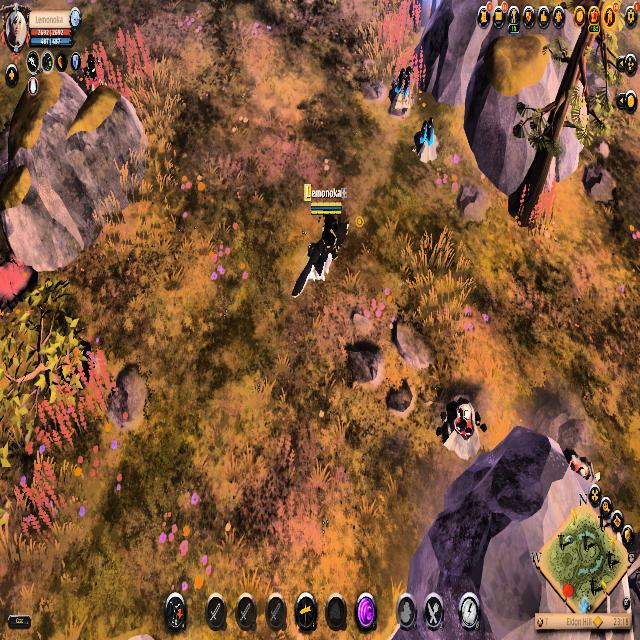ore tier 4: (412, 116, 441, 166), (388, 65, 414, 117)
